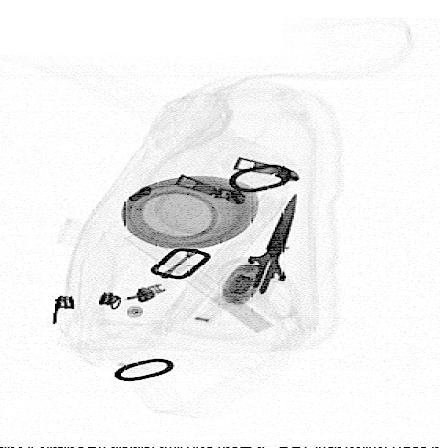Scissors: (210, 190, 307, 323)
